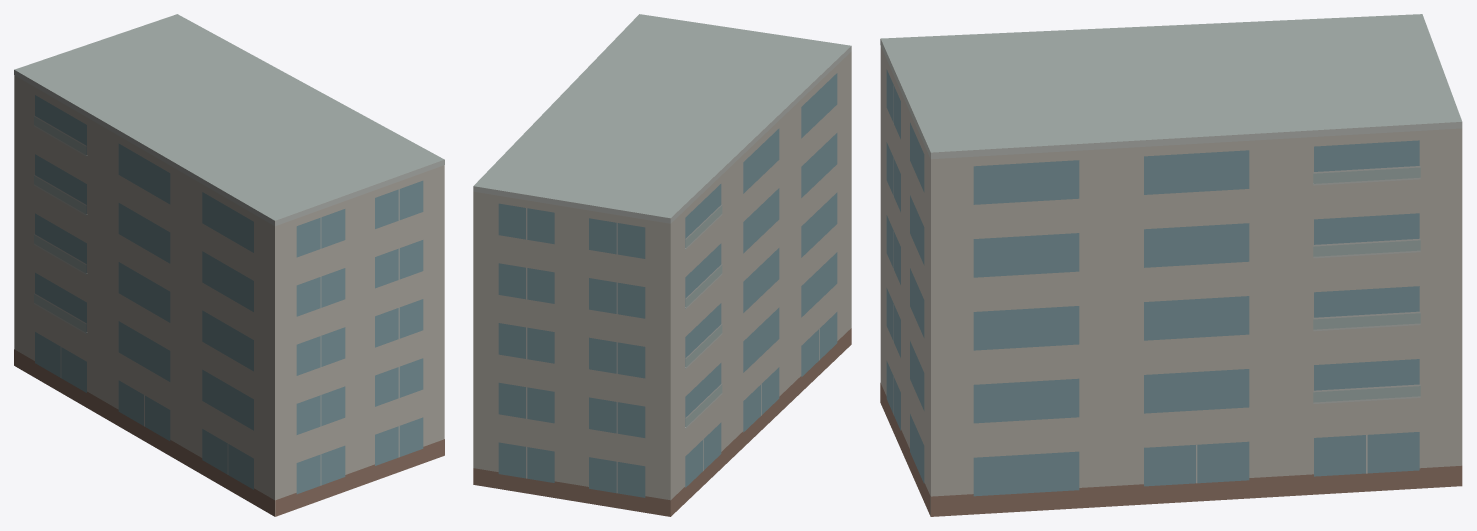
File: survey-upis-32763831.glb
3 renders of one model, left to right at view 1: azimuth 30°, elevation 25°; view 2: azimuth 150°, elevation 25°; view 3: azimuth 270°, elevation 25°, orthographic. The views are drawn at different scales.
Visible parts, largest first — view 1: survey-upis-32763831.tmp; view 2: survey-upis-32763831.tmp; view 3: survey-upis-32763831.tmp.
Part boxes in pixels (box(x1,y1,x2,y2)): survey-upis-32763831.tmp: box(14, 14, 444, 516); survey-upis-32763831.tmp: box(473, 14, 851, 516); survey-upis-32763831.tmp: box(880, 14, 1462, 516).
Size of the model in its own units: 10.84 by 13.28 by 19.23.
